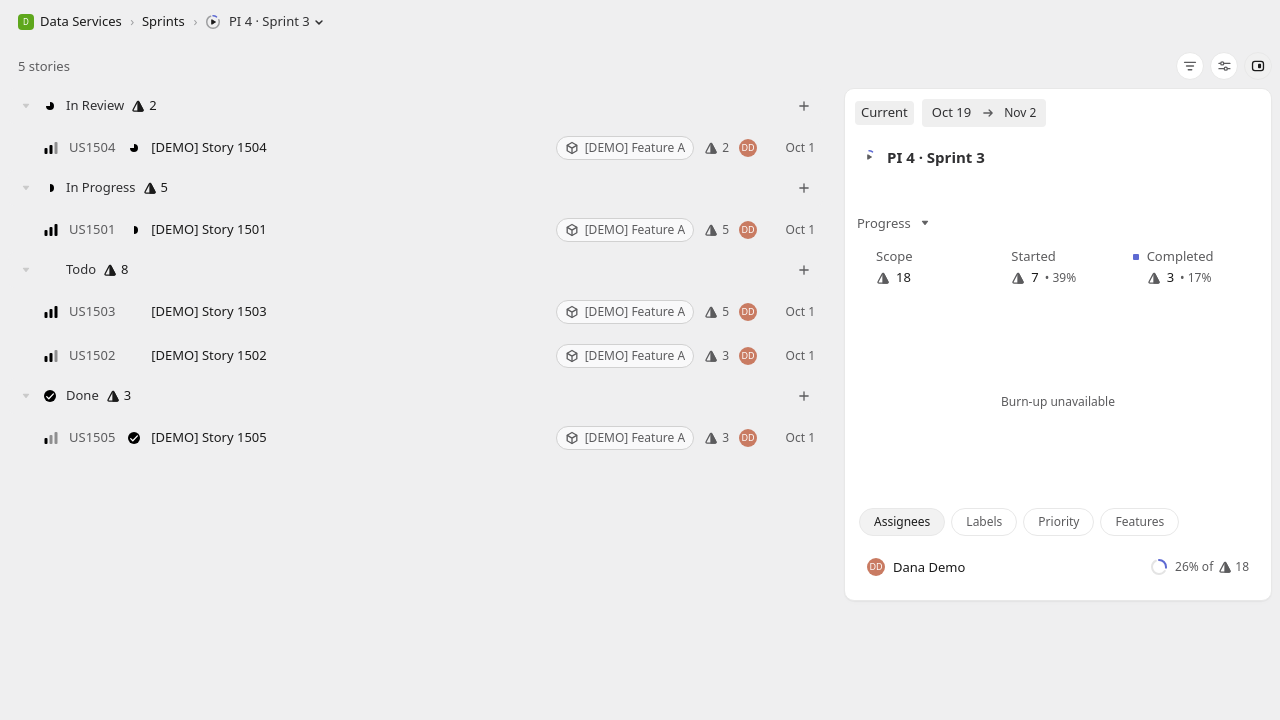
Test: Labels says "No labels used" when no issue has one
Expected: the element named "Sprint details" is shown, left=832, top=88, right=1279, bottom=609
Click the tab "Labels" at (984,522), box left=951, top=508, right=1017, bottom=536
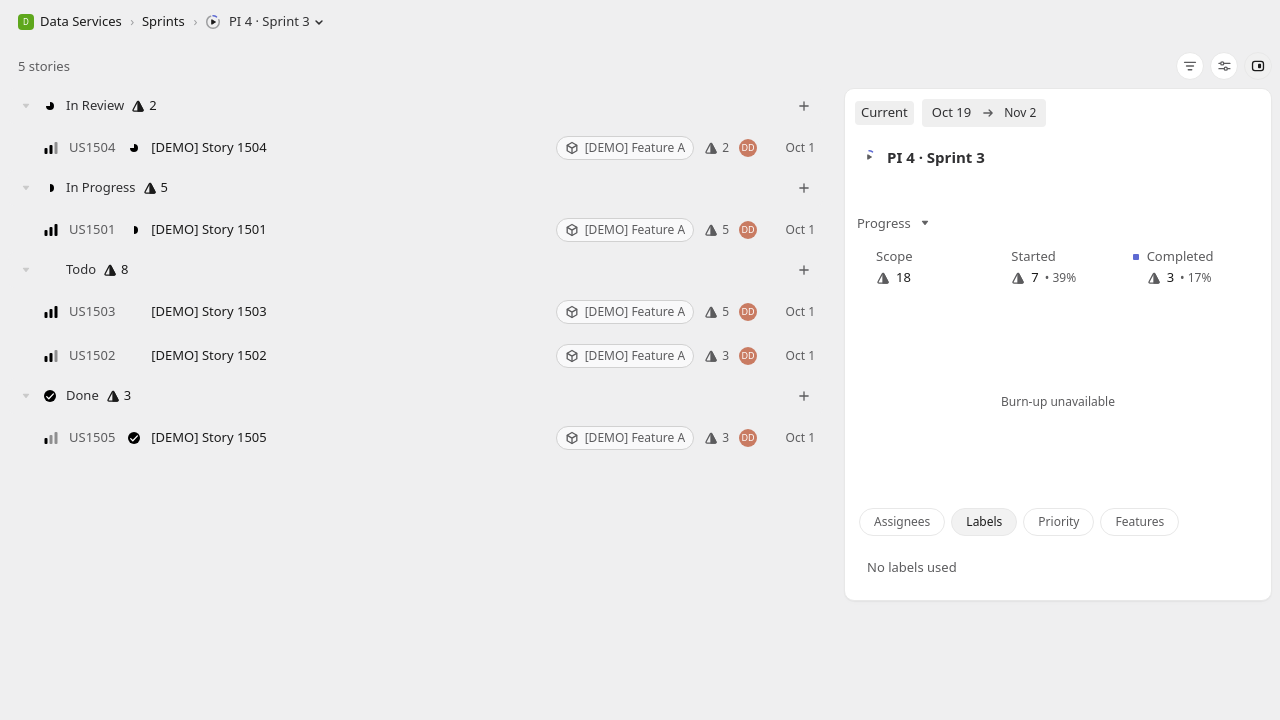
Expected: the panel reads "No labels used", left=867, top=558, right=957, bottom=576
